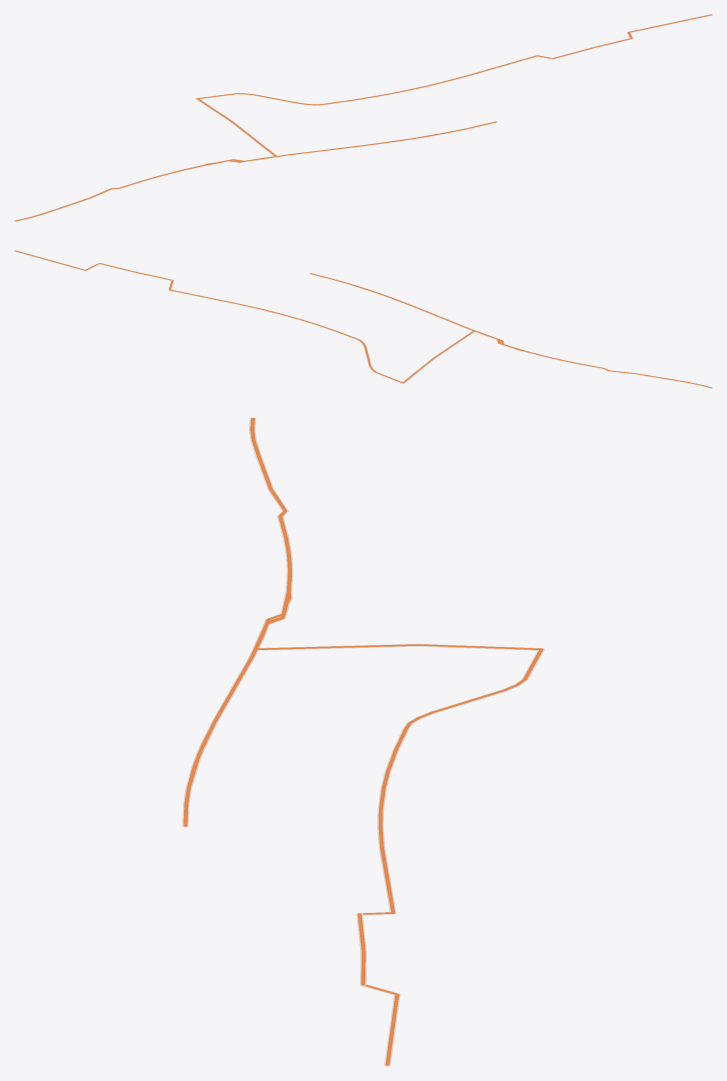
File: ruta_culturales.glb
The picture shows the model from 3 angles, top to bottom: view 1: azimuth 30°, elevation 25°; view 2: azimuth 150°, elevation 25°; view 3: azimuth 270°, elevation 25°; orthographic projection. The views are drawn at different scales.
Visible parts, largest first — view 1: ruta_culturales (×2); view 2: ruta_culturales (×2); view 3: ruta_culturales (×2).
Part boxes in pixels (<box>): ruta_culturales (×2): <box>14,14,712,221</box>; ruta_culturales (×2): <box>14,250,712,388</box>; ruta_culturales (×2): <box>182,417,544,1066</box>.
Bounding box in the file's own units: 35.6 × 0.114 × 8.4.
